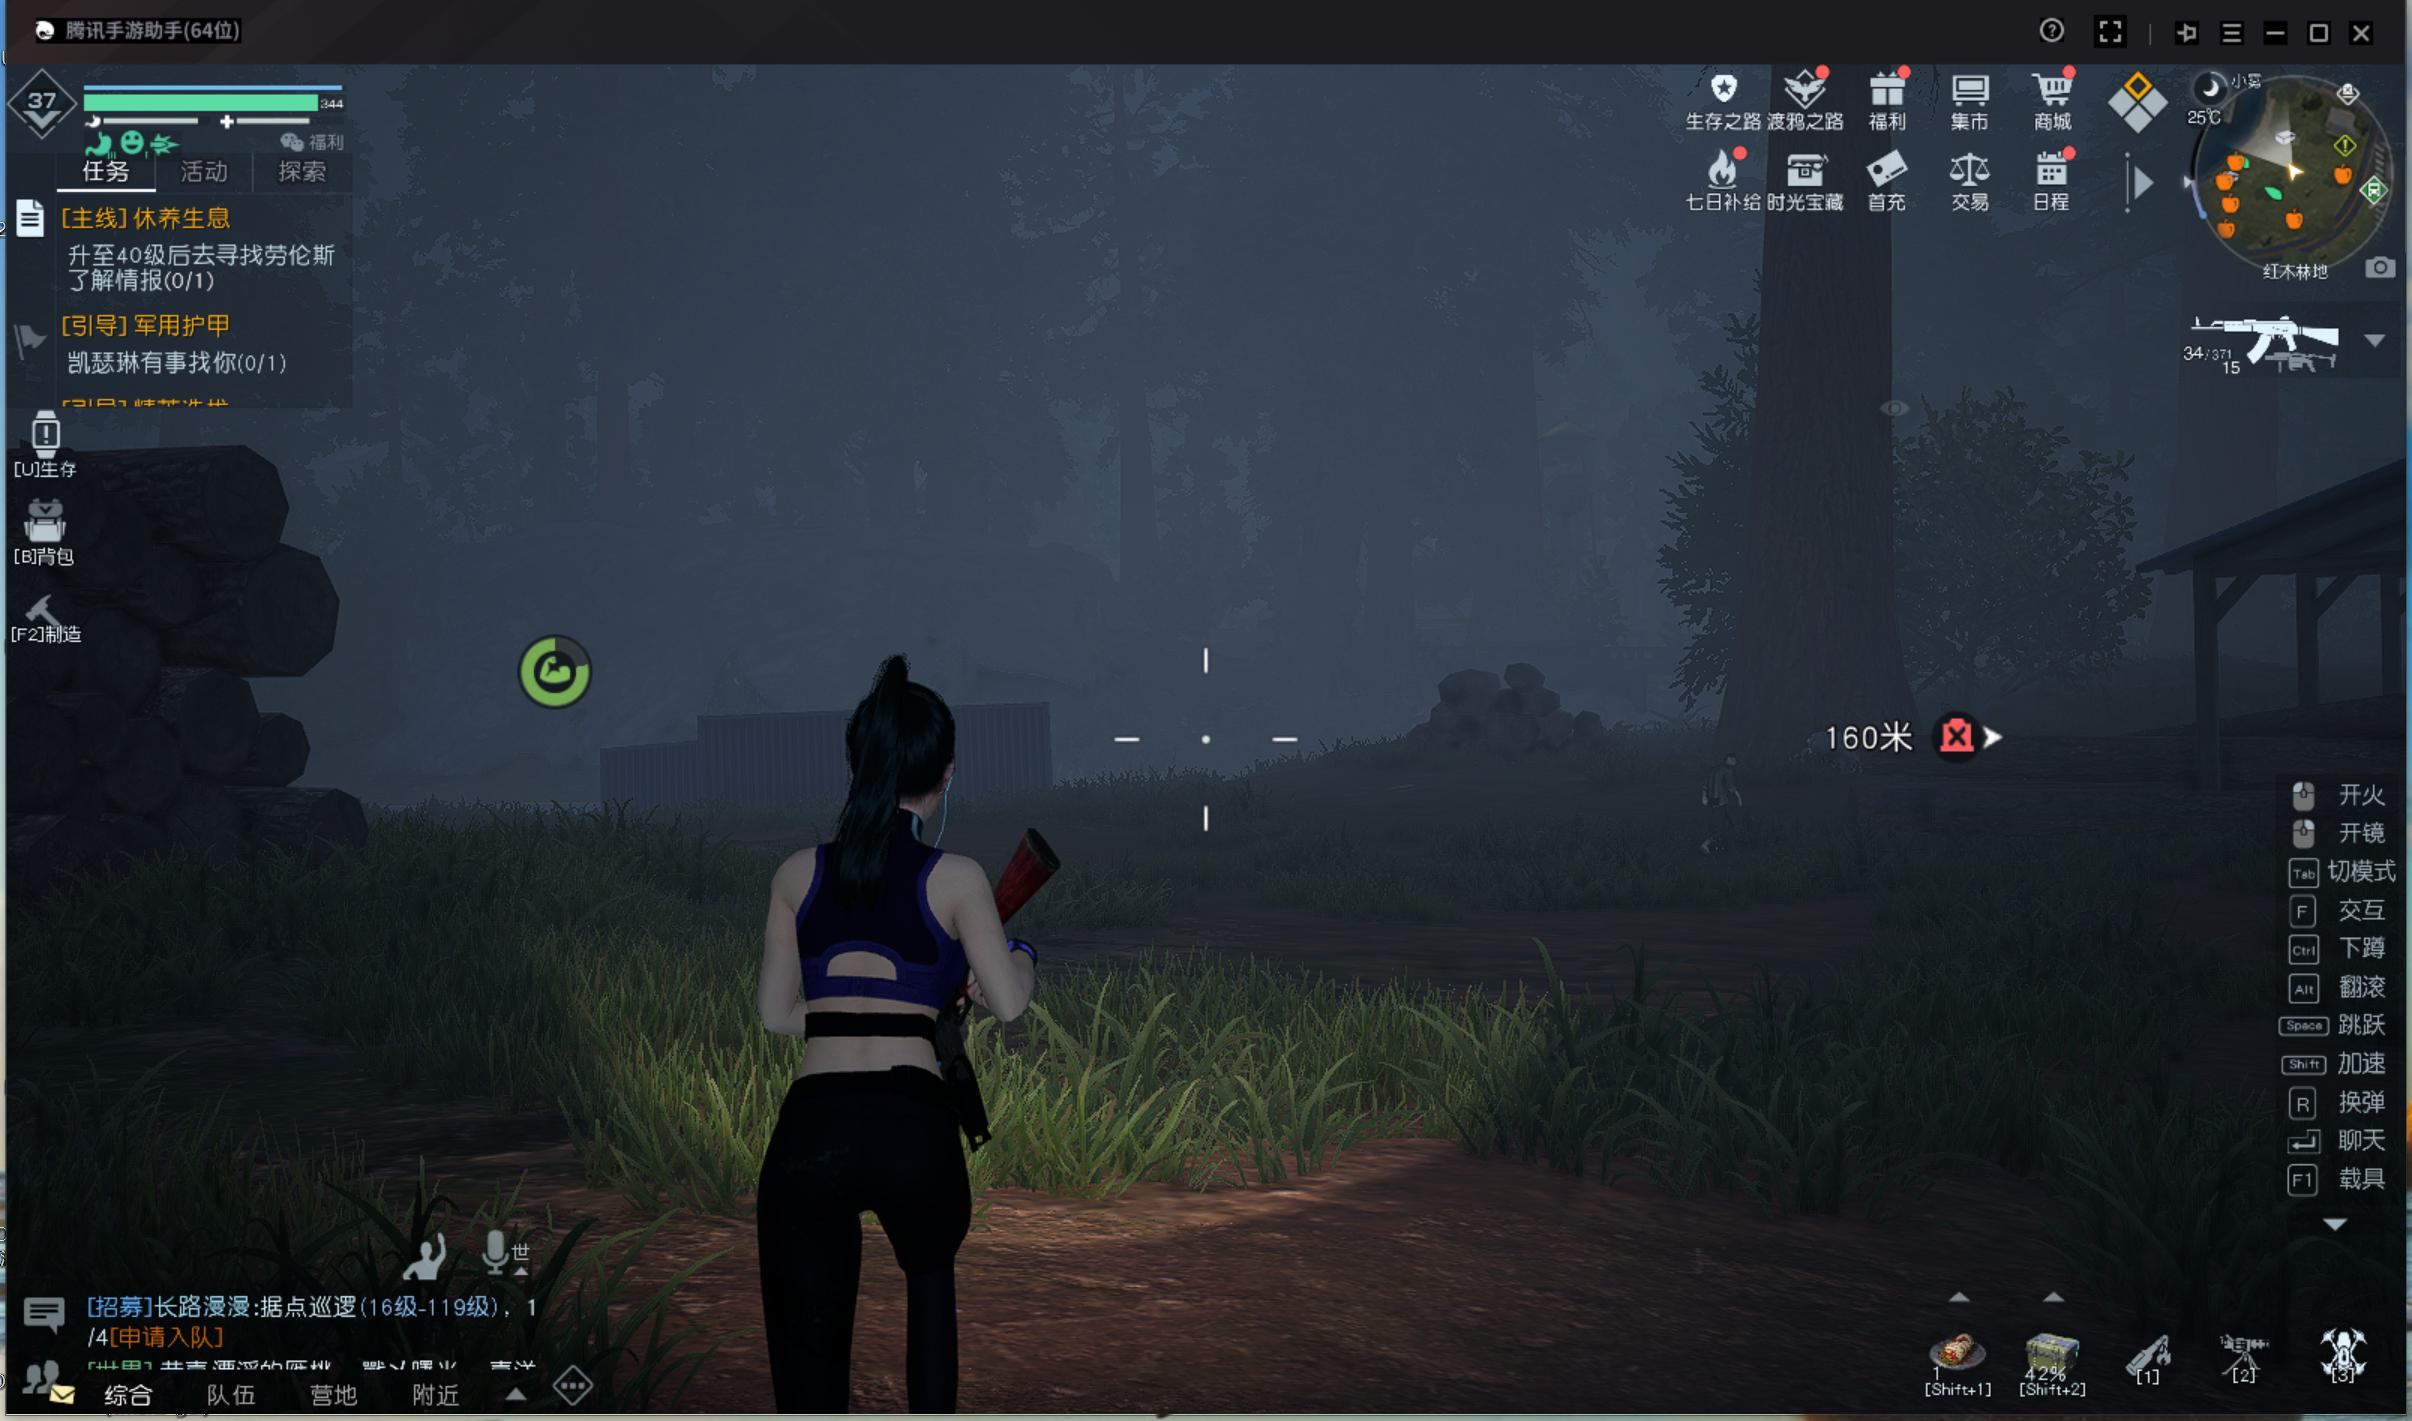tree: (1722, 232, 1921, 746)
